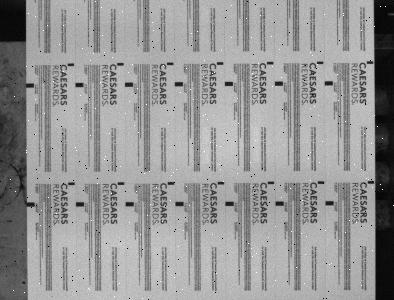qblock: (275, 81, 284, 86), (175, 82, 184, 87), (125, 201, 134, 206), (276, 201, 285, 206), (125, 82, 133, 87), (26, 83, 34, 88), (176, 201, 184, 206), (226, 201, 234, 206), (75, 83, 84, 87), (325, 81, 333, 85), (225, 82, 233, 86), (76, 202, 84, 206), (326, 201, 334, 205), (26, 202, 34, 206)
smallqblock: (267, 61, 274, 65), (217, 61, 224, 65), (168, 181, 175, 185), (368, 180, 375, 184), (118, 181, 124, 185), (167, 62, 174, 65), (68, 182, 75, 185), (268, 181, 275, 184), (367, 61, 374, 64), (218, 181, 225, 184), (117, 63, 124, 66), (317, 61, 324, 64), (68, 63, 74, 66), (318, 181, 324, 184), (368, 299, 375, 300)
